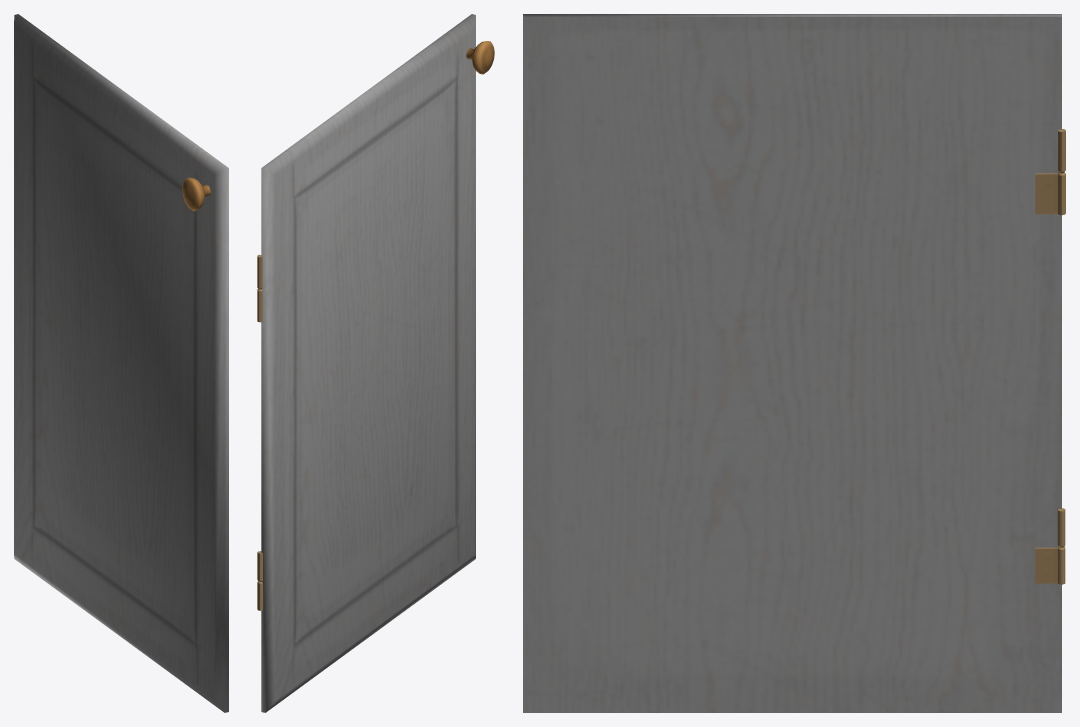
File: SM_KitchenSet_A2_DoorA2.fbx
The picture shows the model from 3 angles, left to right: view 1: azimuth 30°, elevation 25°; view 2: azimuth 150°, elevation 25°; view 3: azimuth 270°, elevation 25°; orthographic projection. The views are drawn at different scales.
Parts seen in each view (by area): view 1: SM_KitchenSet_A2_DoorA2; view 2: SM_KitchenSet_A2_DoorA2; view 3: SM_KitchenSet_A2_DoorA2.
Boxes of the visible parts, box(x1,y1,x2,y2) form: SM_KitchenSet_A2_DoorA2: box(14, 14, 228, 712); SM_KitchenSet_A2_DoorA2: box(257, 14, 494, 712); SM_KitchenSet_A2_DoorA2: box(523, 14, 1065, 712).
Size of the model in its own units: 4.84 by 50.9 by 72.04.
2 materials, 2 textured.
